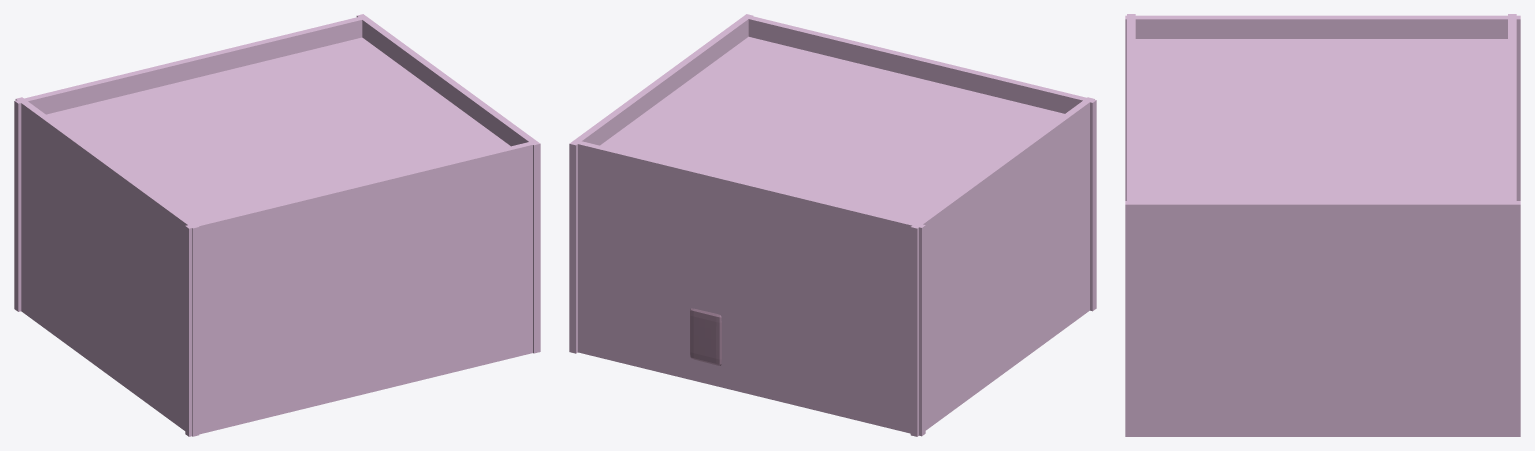
File: kwiaciarnia.fbx
3 renders of one model, left to right at view 1: azimuth 30°, elevation 25°; view 2: azimuth 150°, elevation 25°; view 3: azimuth 270°, elevation 25°, orthographic. The views are drawn at different scales.
Parts seen in each view (by area): view 1: Cube.012, sufit, Cube.009, Cube.011, Cube.010; view 2: Cube.011, sufit, Cube.009, Cube.012, Cube.010, lada; view 3: Cube.010, sufit, Cube.009, Cube.011, Cube.012.
Part boxes in pixels (left/top/right/bottom): Cube.012: left=185, top=142, right=532, bottom=436; sufit: left=46, top=37, right=510, bottom=223; Cube.009: left=15, top=97, right=199, bottom=436; Cube.011: left=14, top=15, right=368, bottom=311; Cube.010: left=356, top=14, right=540, bottom=353; Cube.011: left=571, top=139, right=925, bottom=436; sufit: left=600, top=36, right=1064, bottom=222; Cube.009: left=910, top=97, right=1094, bottom=436; Cube.012: left=748, top=16, right=1096, bottom=311; Cube.010: left=569, top=14, right=752, bottom=353; lada: left=690, top=308, right=721, bottom=365; Cube.010: left=1125, top=201, right=1520, bottom=436; sufit: left=1135, top=39, right=1507, bottom=200; Cube.009: left=1125, top=15, right=1520, bottom=200; Cube.011: left=1508, top=14, right=1516, bottom=204; Cube.012: left=1127, top=14, right=1135, bottom=200.
Bounding box in the file's own units: 515 × 292 × 451.
